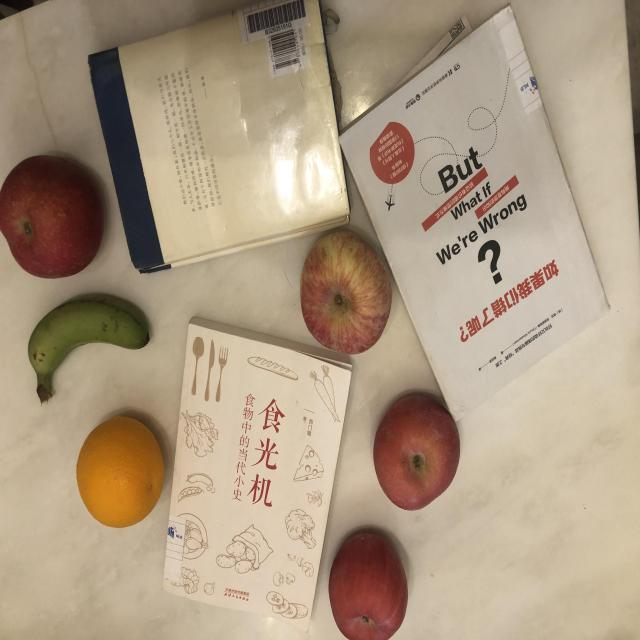Apple: (367, 382, 480, 540), (0, 144, 110, 305), (293, 221, 403, 364), (313, 498, 416, 640)
Banana: (24, 282, 172, 406)
Book: (325, 0, 640, 424), (66, 0, 409, 272), (146, 304, 378, 640)
Orange: (67, 398, 181, 544)
